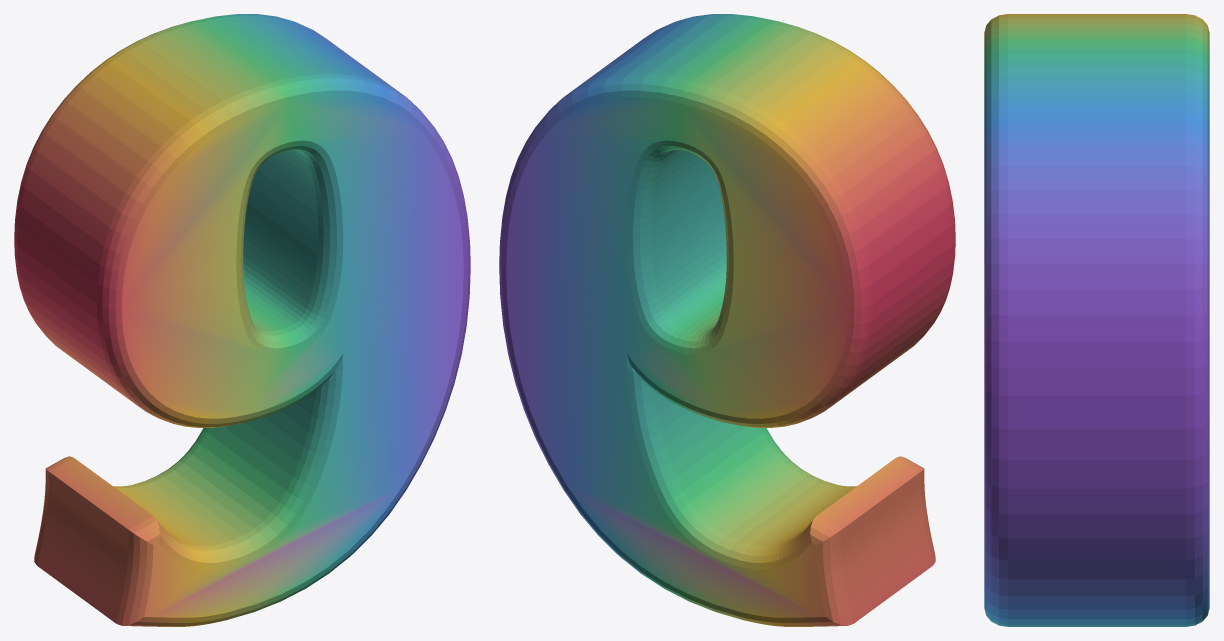
3 views of the same model, side by side, from view 1: azimuth 30°, elevation 25°; view 2: azimuth 150°, elevation 25°; view 3: azimuth 270°, elevation 25° (orthographic). The views are drawn at different scales.
Size of the model in its own units: 0.9138 by 1.24 by 0.43.
